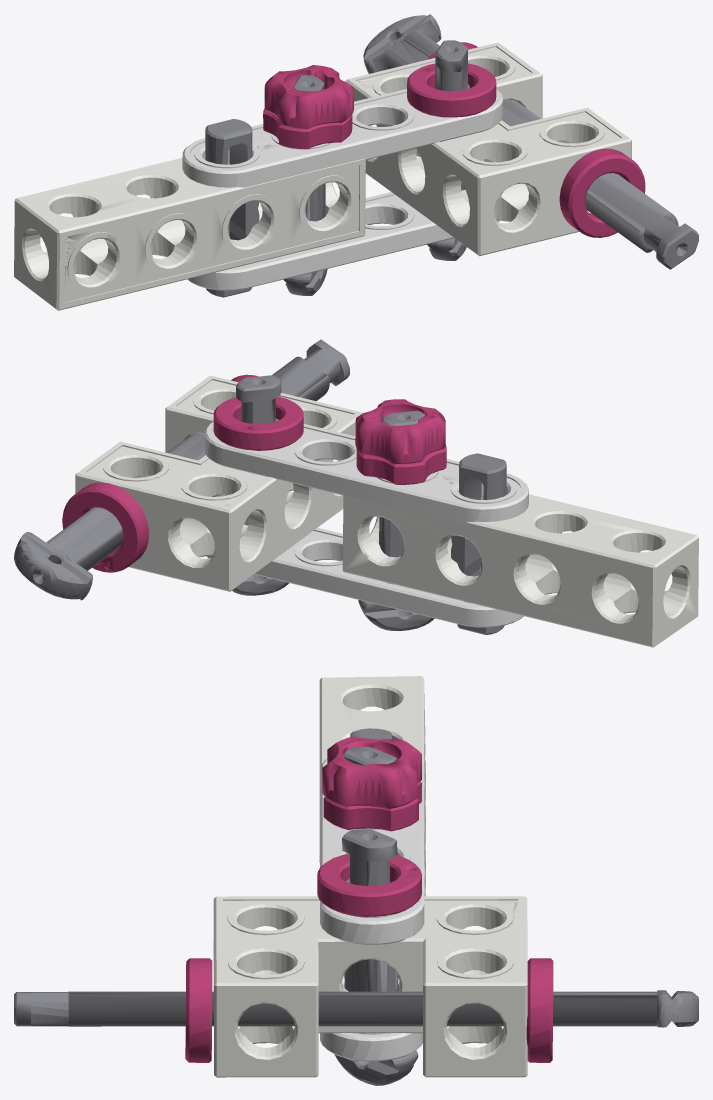
The model's file is UMilestone7.fbx.
The picture shows the model from 3 angles, top to bottom: view 1: azimuth 30°, elevation 25°; view 2: azimuth 150°, elevation 25°; view 3: azimuth 270°, elevation 25°; orthographic projection. The views are drawn at different scales.
Parts seen in each view (by area): view 1: Brace STR STD ERR BU04x01x00.25 - SPN-BRC-0003 (stemfie.org); view 2: Brace STR STD ERR BU04x01x00.25 - SPN-BRC-0003 (stemfie.org); view 3: Brace STR STD ERR BU04x01x00.25 - SPN-BRC-0003 (stemfie.org).
Boxes of the visible parts, x1,y1,x2,y2 form: Brace STR STD ERR BU04x01x00.25 - SPN-BRC-0003 (stemfie.org): (14, 14, 698, 310); Brace STR STD ERR BU04x01x00.25 - SPN-BRC-0003 (stemfie.org): (14, 339, 698, 647); Brace STR STD ERR BU04x01x00.25 - SPN-BRC-0003 (stemfie.org): (14, 676, 698, 1085).
Bounding box in the file's own units: 8609 × 3225 × 8190.
